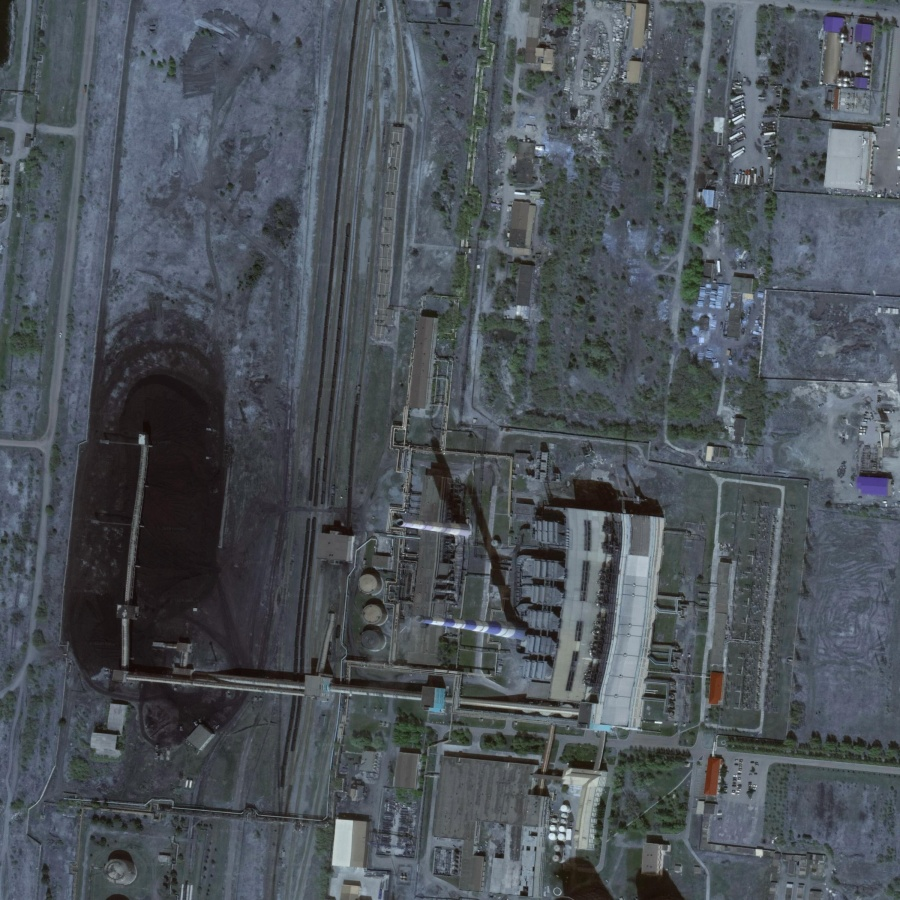PowerPlant: (53, 339, 371, 748), (377, 426, 566, 688)
